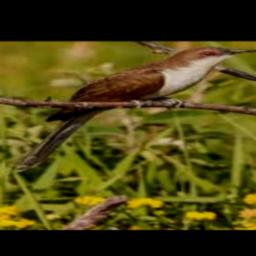Cuckoo: (11, 47, 256, 171)
